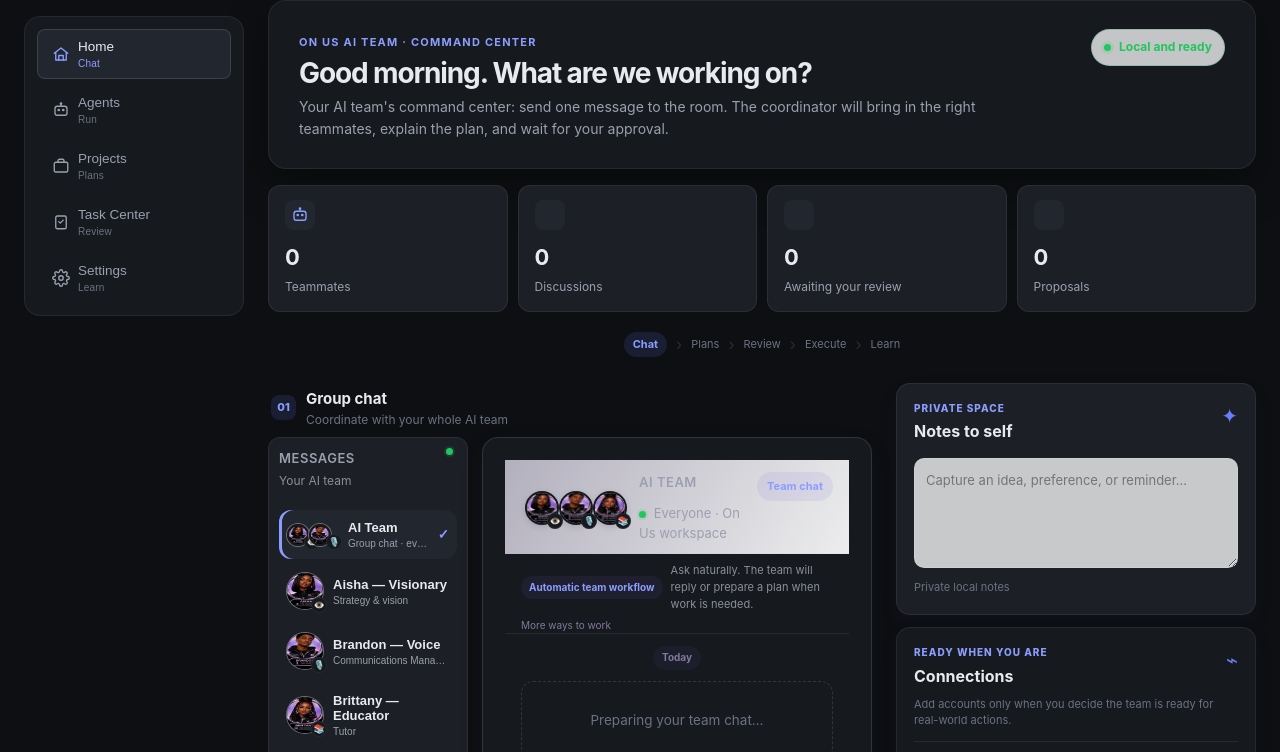
Test case: Live Activity › preserves zero counts
Click the button "Home Chat" at (134, 54), box [37,29,231,79]
(page scrolled)
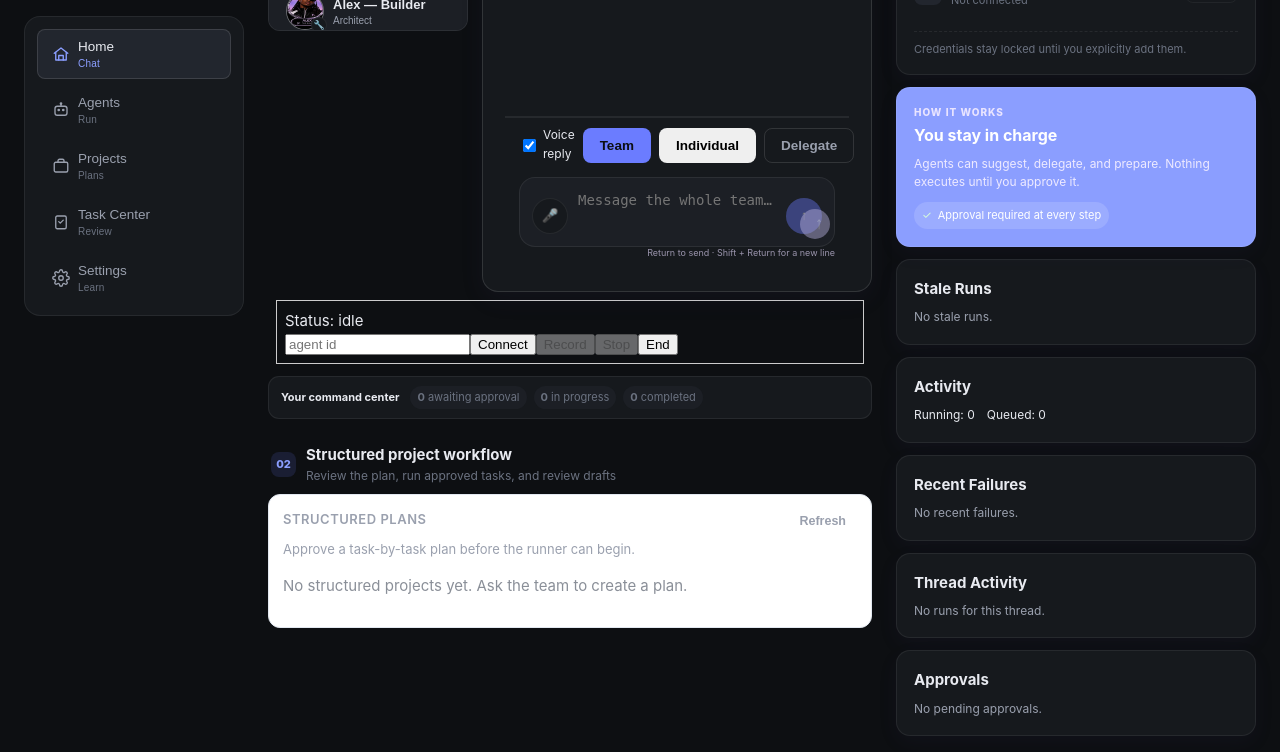
Result: the text "Running: 0" is shown at [914,406,975,425]
